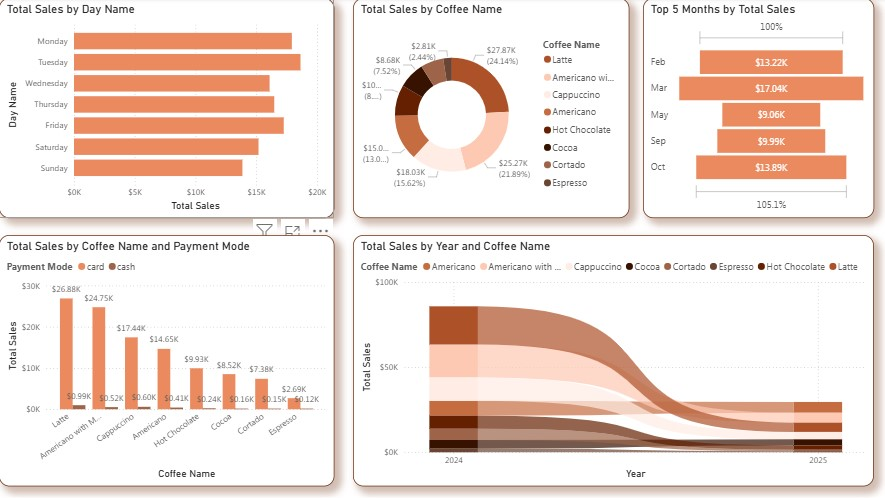

The page's visual inventory and layout, read from the dashboard file:
{"tool":"powerbi","page":{"name":"Page 3","canvas":[1280,720],"ordinal":2},"visuals":[{"type":"barChart","fields":{"Y":["Measures Table.Total Sales"],"Category":["Date.Day Name"]},"box":[0,0,483,317.2],"z":0},{"type":"clusteredColumnChart","fields":{"Category":["Coffee Sales.Coffee Name"],"Series":["Coffee Sales.Payment Mode"],"Y":["Measures Table.Total Sales"]},"box":[0,341.3,483,362.3],"z":1000},{"type":"donutChart","fields":{"Category":["Coffee Sales.Coffee Name"],"Y":["Measures Table.Total Sales"]},"box":[510.4,0,397.7,317.2],"z":2000},{"type":"ribbonChart","fields":{"Y":["Measures Table.Total Sales"],"Category":["Date.Date Hierarchy.Year","Date.Date Hierarchy.Month Name","Date.Date Hierarchy.Date"],"Series":["Coffee Sales.Coffee Name"]},"box":[510.4,341.3,750.3,362.3],"z":3000},{"type":"funnel","title":"Top 5 Months by Total Sales","fields":{"Y":["Measures Table.Total Sales"],"Category":["Coffee Sales.Month_name"]},"box":[927.4,0,333.3,317.2],"z":3001}]}

Visuals, with their boxes in screenshot pixels (x1, y1, x2, y2), scaled from the page's 1280x720 canvas onto the 885x498 screenshot:
barChart - Measures Table.Total Sales x Date.Day Name: pyautogui.locateOnScreen(0, 0, 334, 219)
clusteredColumnChart - Coffee Sales.Coffee Name x Coffee Sales.Payment Mode: pyautogui.locateOnScreen(0, 236, 334, 487)
donutChart - Coffee Sales.Coffee Name x Measures Table.Total Sales: pyautogui.locateOnScreen(353, 0, 628, 219)
ribbonChart - Measures Table.Total Sales x Date.Date Hierarchy.Year: pyautogui.locateOnScreen(353, 236, 872, 487)
"Top 5 Months by Total Sales" funnel: pyautogui.locateOnScreen(641, 0, 872, 219)
